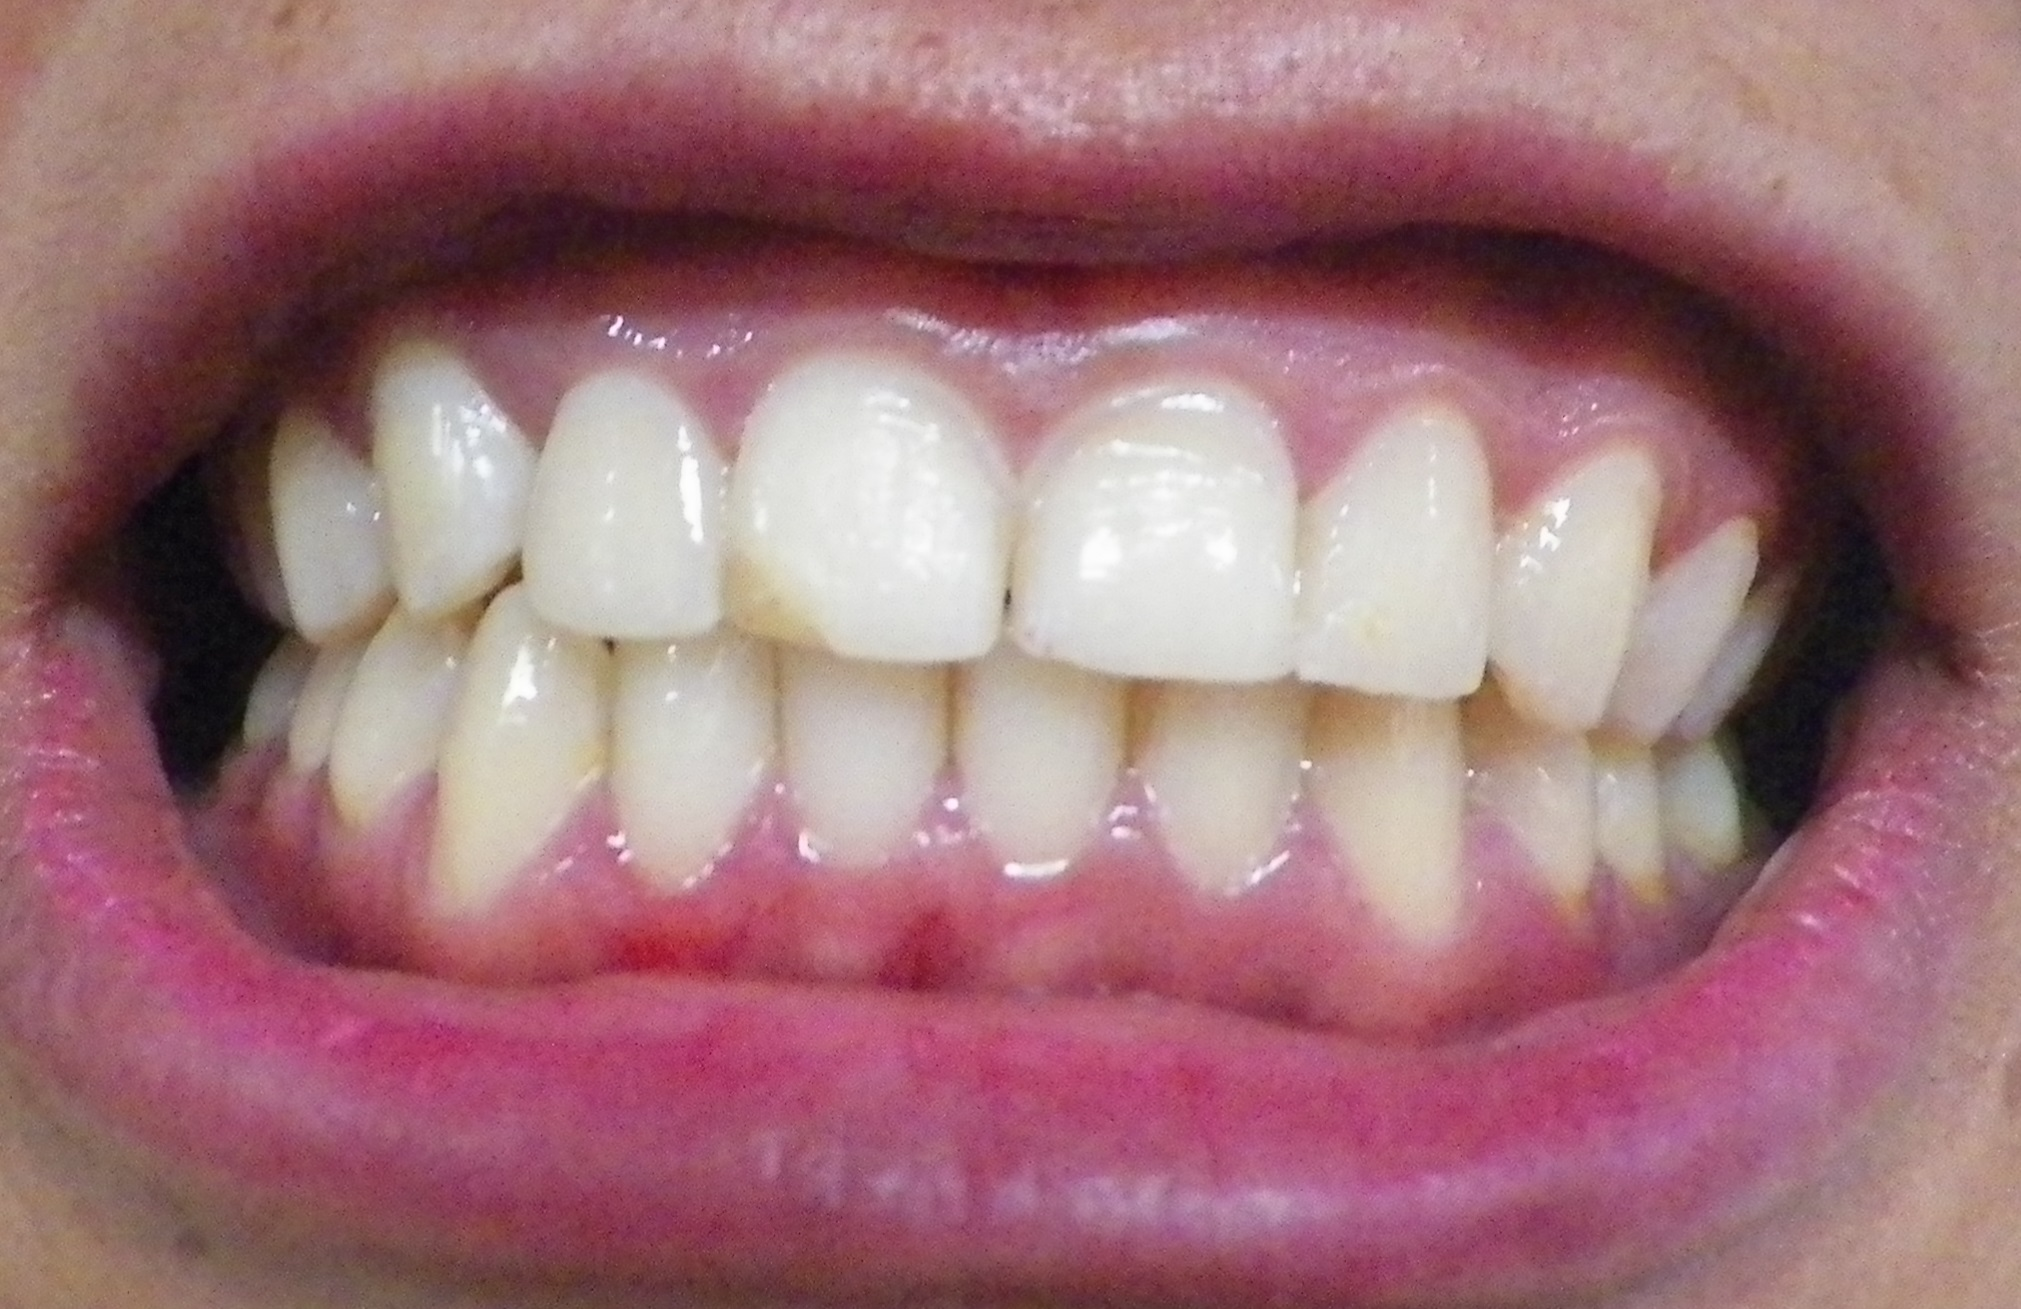boca: (191, 345, 1776, 931)
